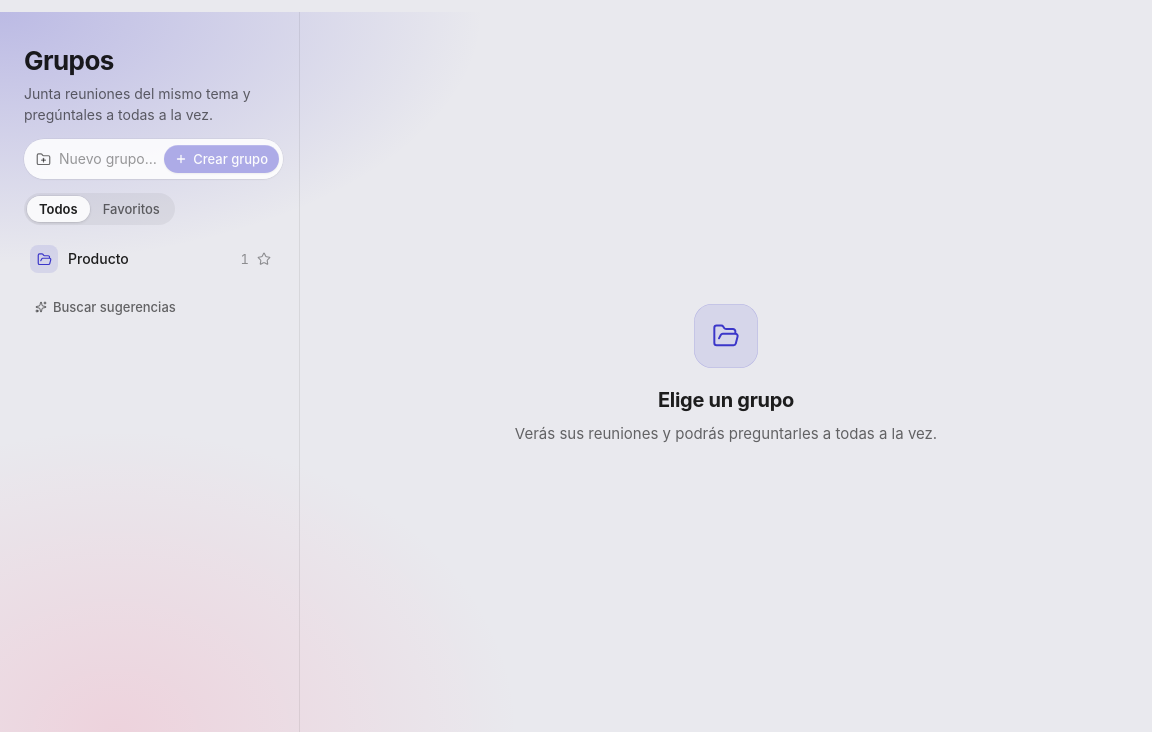
it: GroupsContainer › quita una reunión del grupo
Type "X" into the field named "Nombre del grupo nuevo" at [108, 159], box left=59, top=143, right=156, bottom=175
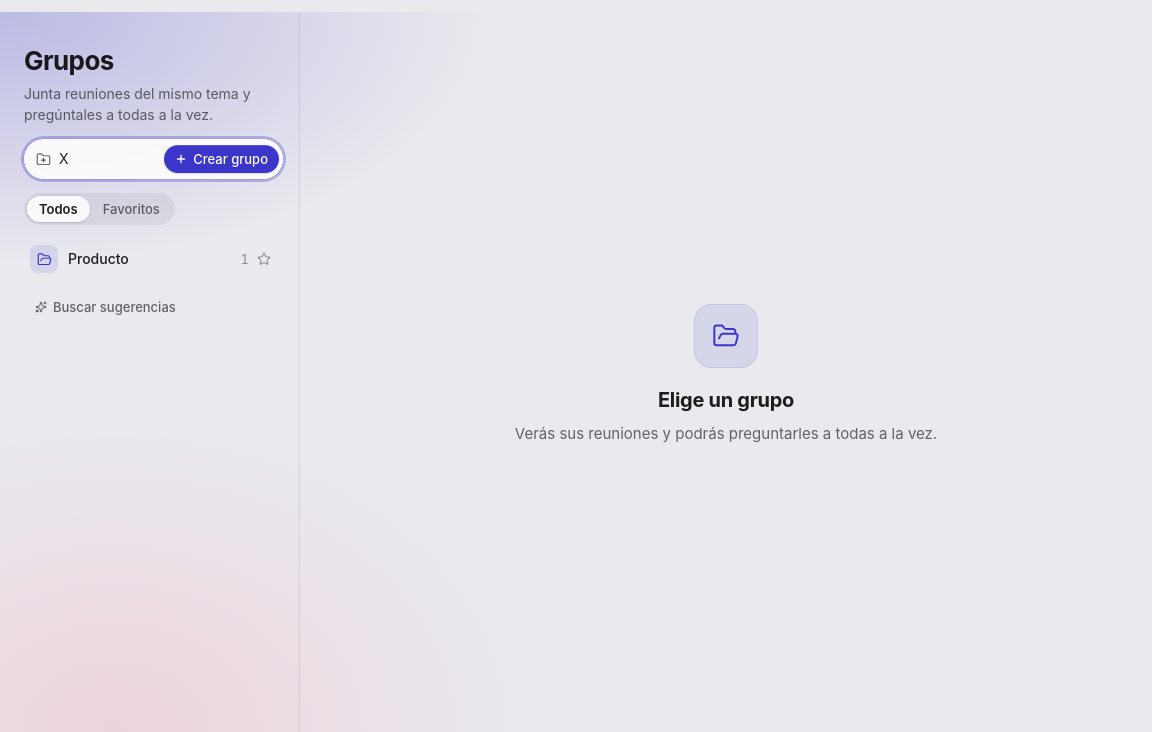
Click the button "Crear grupo" at [222, 159], box left=164, top=145, right=279, bottom=173
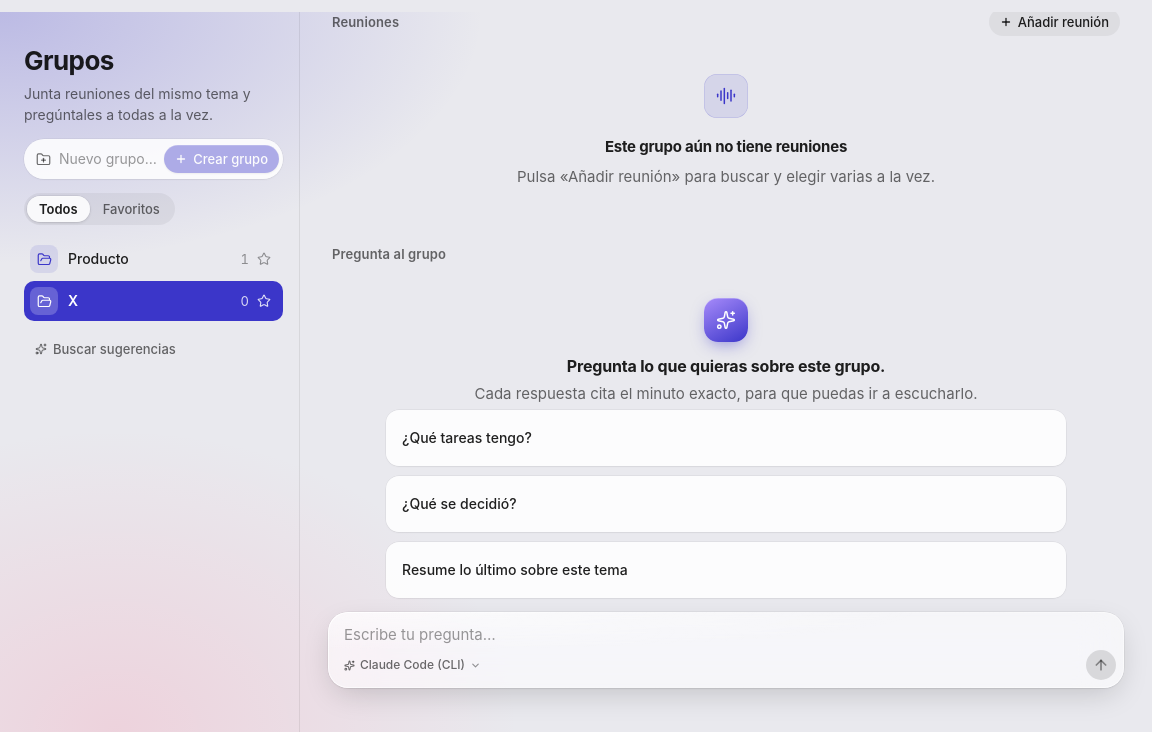
Click the button "Producto 1" at [154, 259], box left=24, top=239, right=283, bottom=279
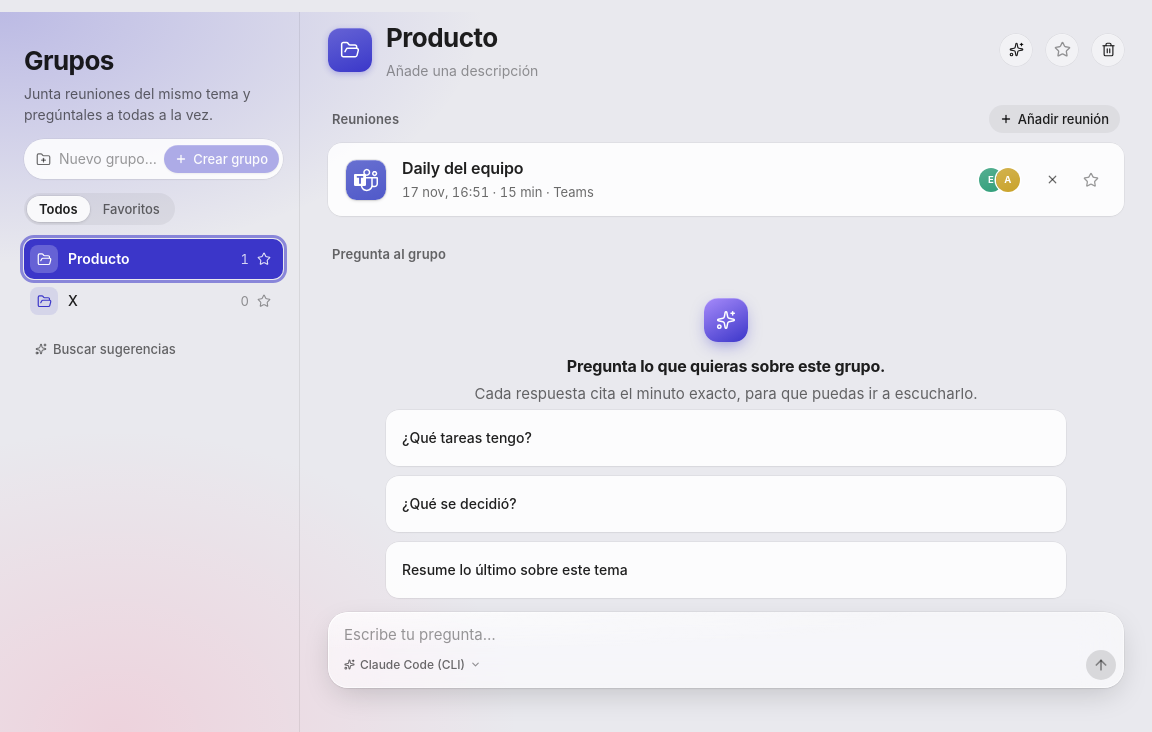
Click the button named "Quitar Daily del equipo del grupo" at [1052, 180], box left=1038, top=166, right=1066, bottom=194
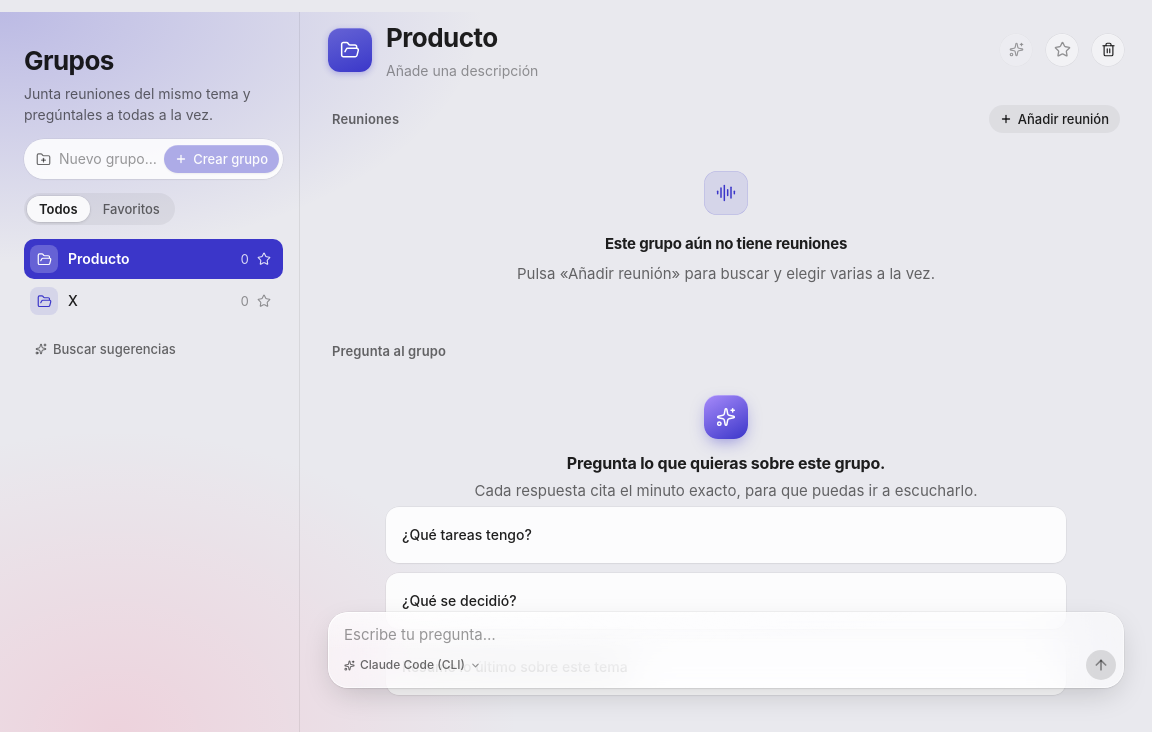
Expected: the button "Daily del equipo" is gone
